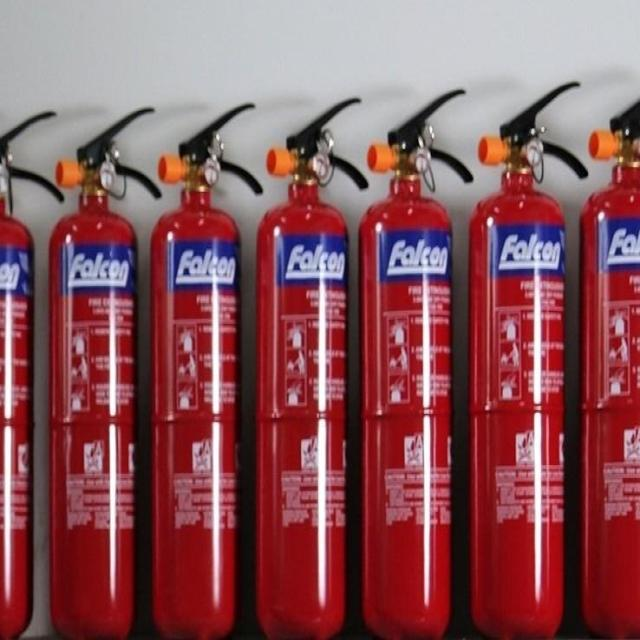fire_extinguisher: (464, 76, 591, 638), (354, 84, 476, 638), (144, 99, 268, 639), (249, 92, 371, 638), (43, 101, 166, 638), (573, 91, 639, 639), (0, 99, 64, 639)
